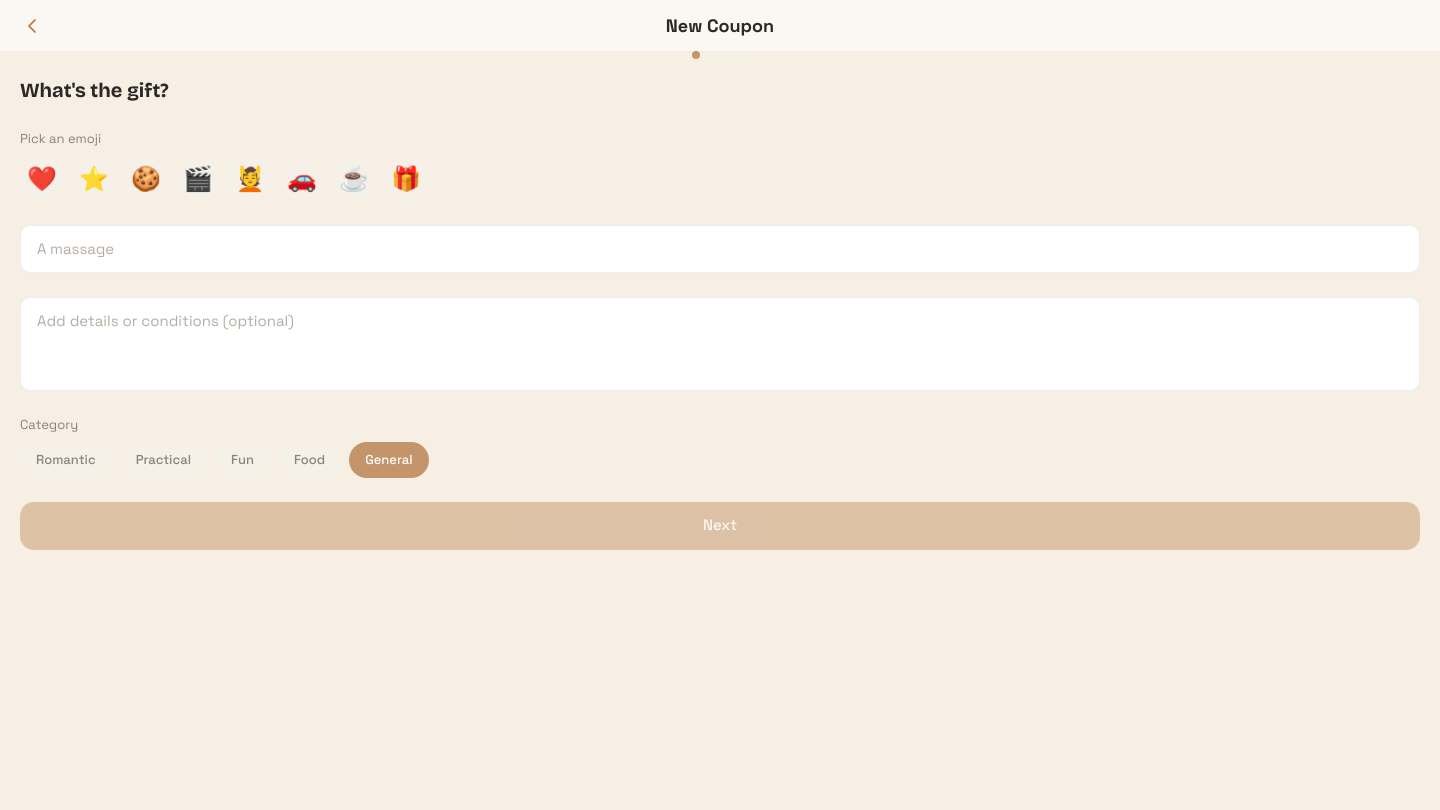
CreateCouponPage › advances to Step 2 when Step 1 form is submitted
The width and height of the screenshot is (1440, 810).
Note: Fill title
In the field with test id "title-input": (720, 249) [20,224,1420,273], type "Test Coupon"
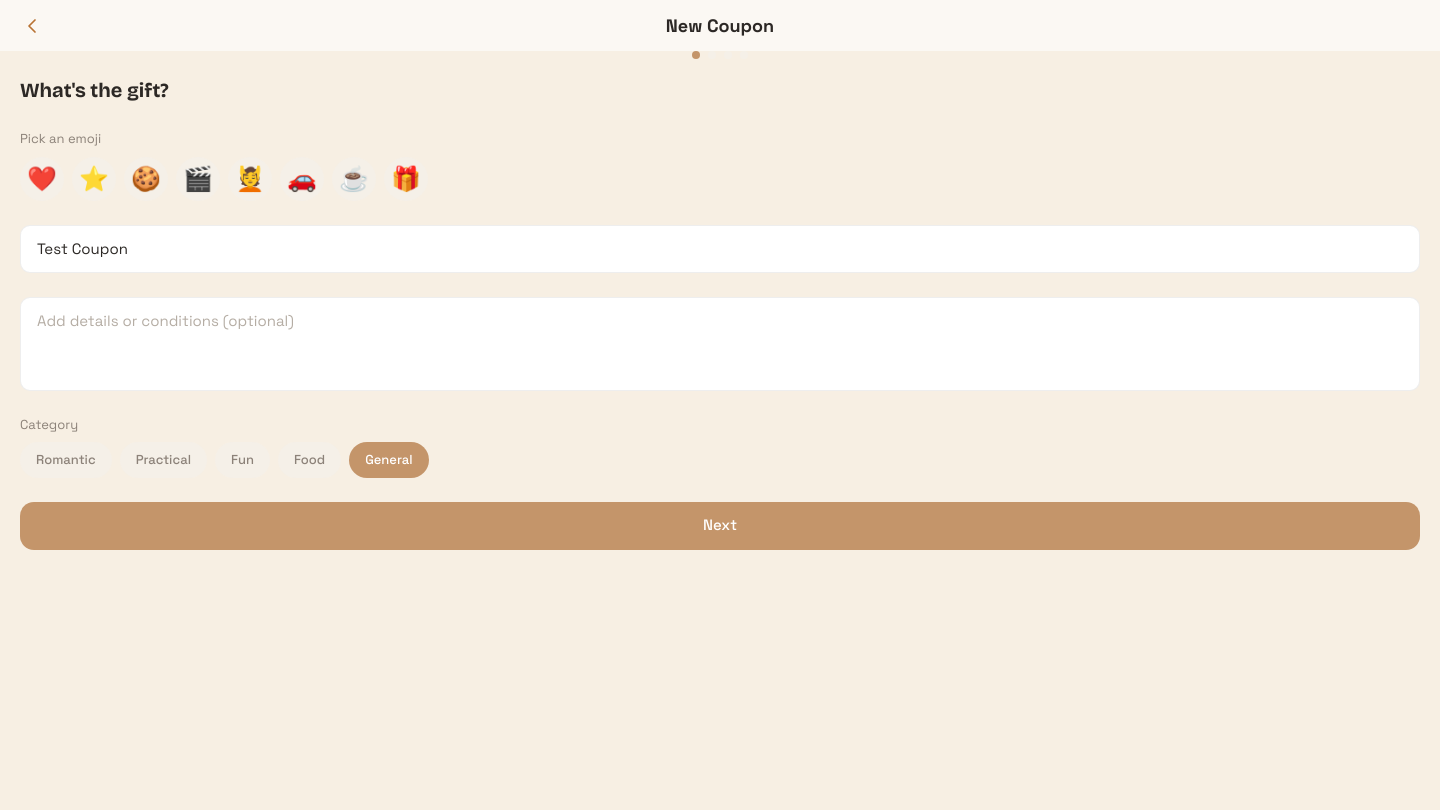
Check: the button with test id "next-button" is enabled
Click the button with test id "next-button": click(720, 526) [20,502,1420,550]
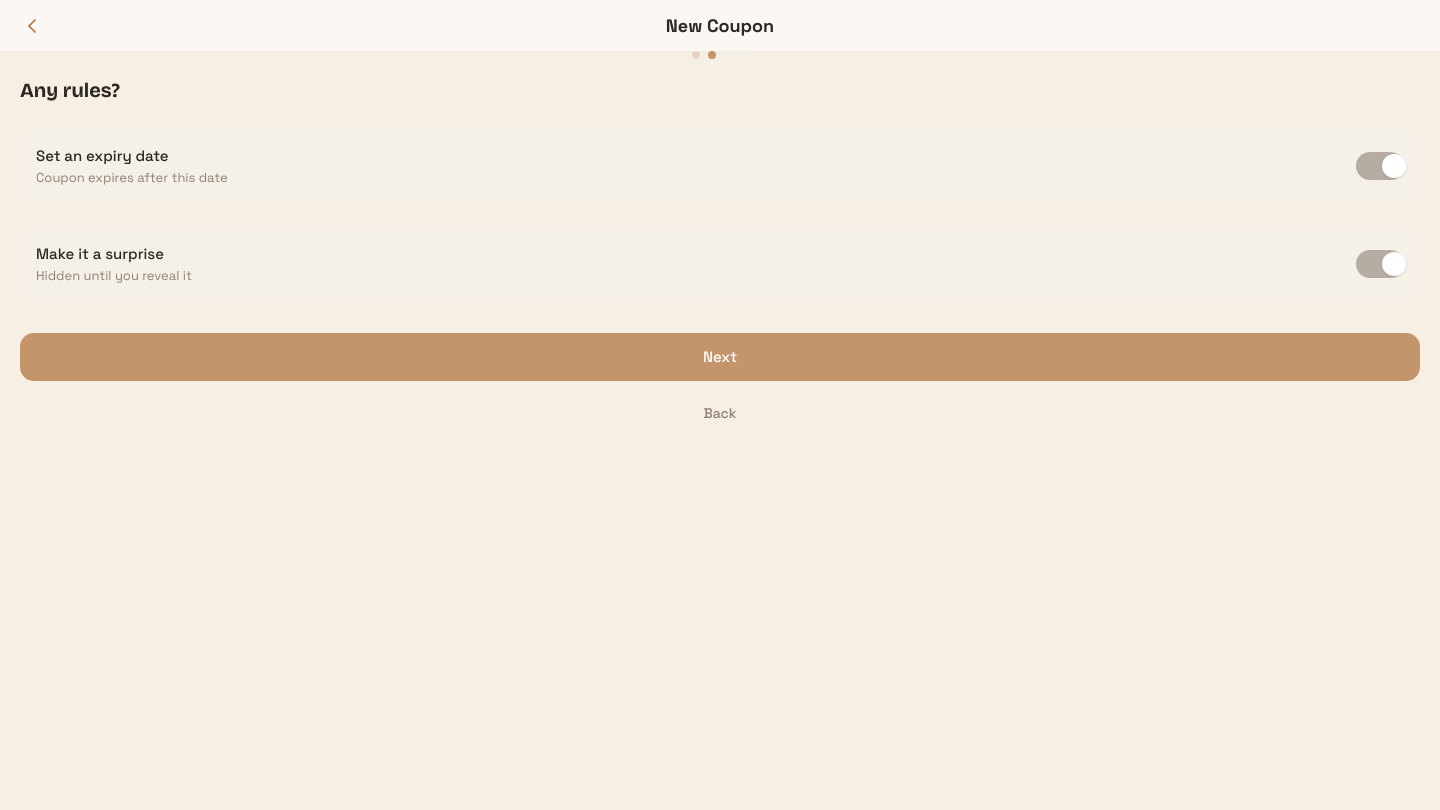
Check: the element with test id "step2-form" is shown, box [20,75,1420,433]
